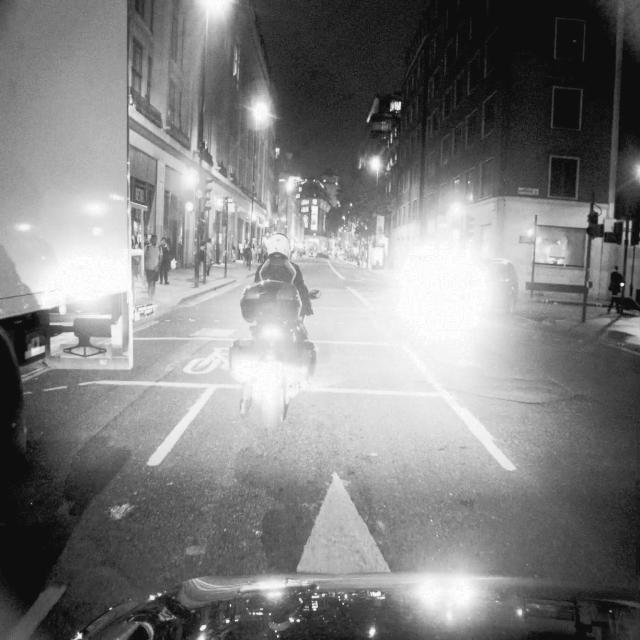Truck: (0, 0, 138, 486)
